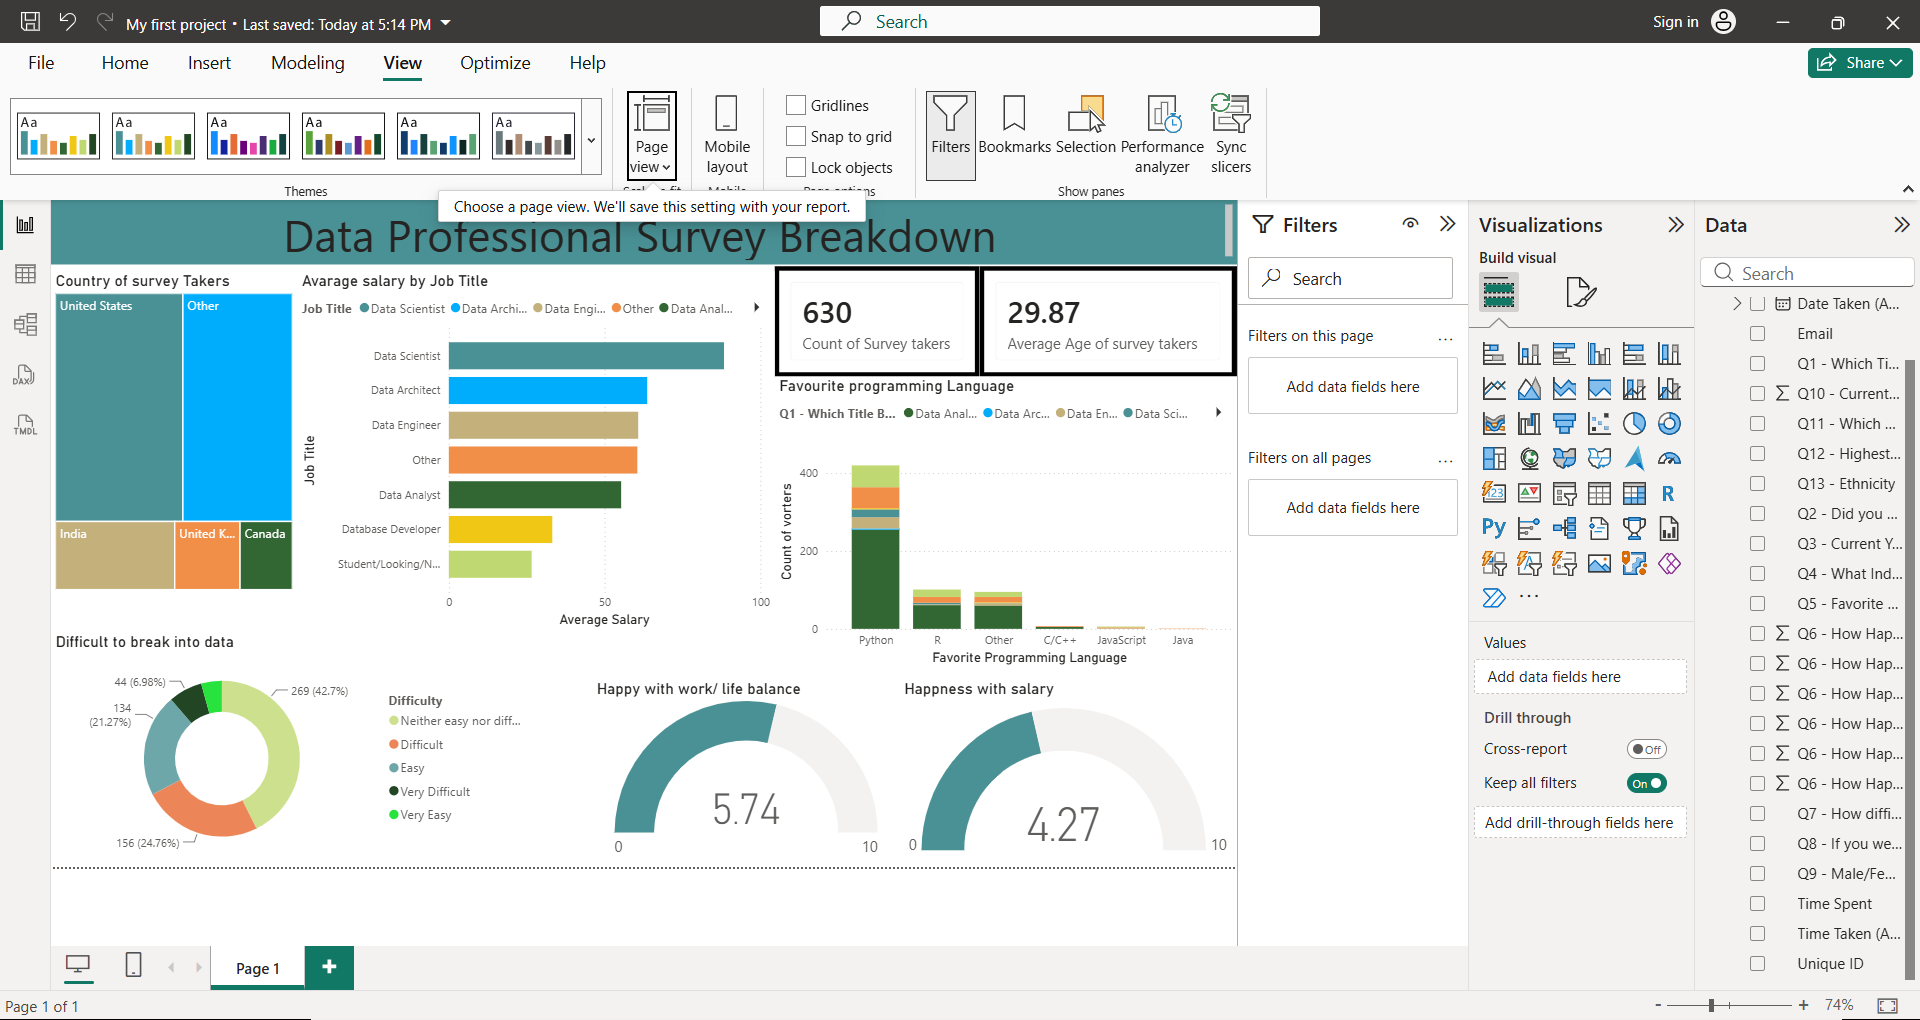

The page's visual inventory and layout, read from the dashboard file:
{"tool":"powerbi","page":{"name":"Page 1","canvas":[1280,720],"ordinal":0},"visuals":[{"type":"textbox","box":[0,0,1280.3,70],"z":0},{"type":"cardVisual","fields":{"Data":["CountNonNull(Data Professional Survey.Unique ID)"]},"box":[780.8,71,221,119.6],"z":1000},{"type":"cardVisual","fields":{"Data":["Avg(Data Professional Survey.Q10 - Current Age)"]},"box":[1001.8,71,277.8,119.6],"z":2000},{"type":"barChart","title":"Avarage salary by Job Title","fields":{"Category":["Data Professional Survey.Q1 - Which Title Best Fits your Current Role?.1"],"Y":["Avg(Data Professional Survey.Average Salary)"],"Series":["Data Professional Survey.Q1 - Which Title Best Fits your Current Role?.1"]},"box":[265.7,77.1,515.1,389.4],"z":3000},{"type":"columnChart","title":"Favourite programming Language","fields":{"Category":["Data Professional Survey.Q5 - Favorite Programming Language.1"],"Y":["CountNonNull(Data Professional Survey.Unique ID)"],"Series":["Data Professional Survey.Q1 - Which Title Best Fits your Current Role?.1"]},"box":[780.8,190.6,498.9,316.4],"z":4000},{"type":"treemap","title":"Country of survey Takers","fields":{"Group":["Data Professional Survey.Q11 - Which Country do you live in?.1"],"Values":["CountNonNull(Data Professional Survey.Q11 - Which Country do you live in?.1)"]},"box":[0,77.1,265.7,348.8],"z":5000},{"type":"gauge","title":"Happy with work/ life balance","fields":{"Y":["Avg(Data Professional Survey.Q6 - How Happy are you in your Current Position with the following? (Work/Life Balance))"],"MinValue":["Min(Data Professional Survey.Q6 - How Happy are you in your Current Position with the following? (Work/Life Balance))"],"MaxValue":["Max(Data Professional Survey.Q6 - How Happy are you in your Current Position with the following? (Work/Life Balance))1"]},"box":[584,517.1,332.6,202.8],"z":6000},{"type":"gauge","title":"Happness with salary","fields":{"Y":["Avg(Data Professional Survey.Q6 - How Happy are you in your Current Position with the following? (Salary))"],"MinValue":["Min(Data Professional Survey.Q6 - How Happy are you in your Current Position with the following? (Salary))"],"MaxValue":["Max(Data Professional Survey.Q6 - How Happy are you in your Current Position with the following? (Salary))"]},"box":[916.6,517.1,363,202.8],"z":7000},{"type":"donutChart","title":"Difficult to break into data","fields":{"Category":["Data Professional Survey.Q7 - How difficult was it for you to break into Data?"],"Y":["CountNonNull(Data Professional Survey.Q7 - How difficult was it for you to break into Data?)"]},"box":[0,466.4,523.2,253.5],"z":8000}]}

Visuals, with their boxes on the page's 1280x720 design canvas (x1, y1, x2, y2). These are canvas units, not pixel positions in the 1920x1020 screenshot, which may show the page scaled, cropped or inside an application window:
textbox: pyautogui.locateOnScreen(0, 0, 1280, 70)
cardVisual - CountNonNull(Data Professional Survey.Unique ID): pyautogui.locateOnScreen(781, 71, 1002, 191)
cardVisual - Avg(Data Professional Survey.Q10 - Current Age): pyautogui.locateOnScreen(1002, 71, 1280, 191)
"Avarage salary by Job Title" barChart: pyautogui.locateOnScreen(266, 77, 781, 466)
"Favourite programming Language" columnChart: pyautogui.locateOnScreen(781, 191, 1280, 507)
"Country of survey Takers" treemap: pyautogui.locateOnScreen(0, 77, 266, 426)
"Happy with work/ life balance" gauge: pyautogui.locateOnScreen(584, 517, 917, 720)
"Happness with salary" gauge: pyautogui.locateOnScreen(917, 517, 1280, 720)
"Difficult to break into data" donutChart: pyautogui.locateOnScreen(0, 466, 523, 720)
